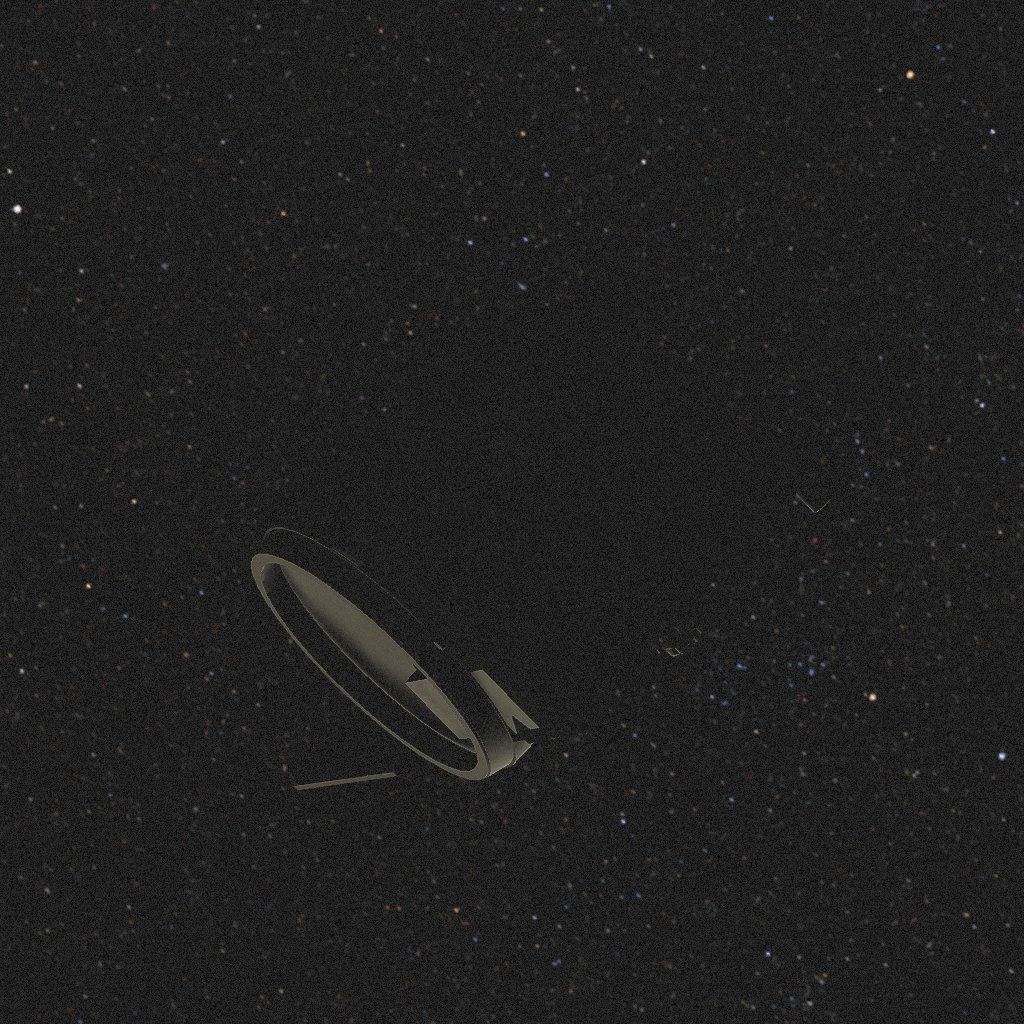proba_3_csc: (240, 244, 833, 790)
